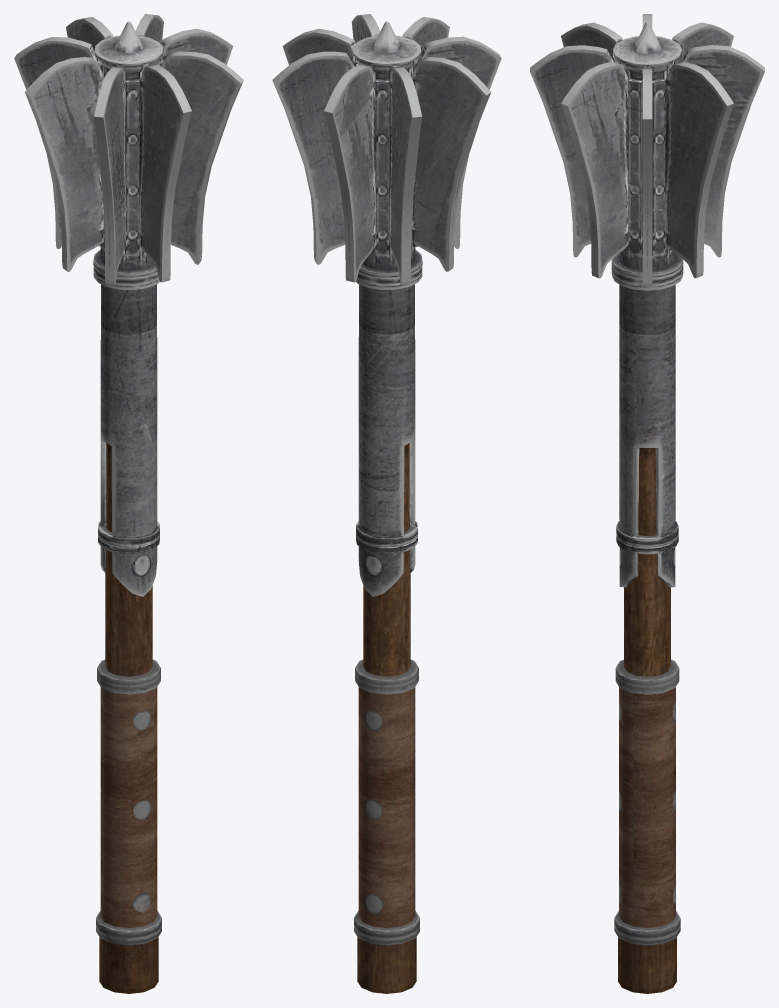
The model's file is Mace_01.fbx.
3 renders of one model, left to right at view 1: azimuth 30°, elevation 25°; view 2: azimuth 150°, elevation 25°; view 3: azimuth 270°, elevation 25°, orthographic.
Visible parts, largest first — view 1: Mace_01_LOD0; view 2: Mace_01_LOD0; view 3: Mace_01_LOD0.
Part boxes in pixels (x1,y1,x2,y2): Mace_01_LOD0: [14, 14, 243, 993]; Mace_01_LOD0: [272, 14, 501, 993]; Mace_01_LOD0: [530, 14, 764, 993].
Size of what is drawn, in the model's own units: 11.95 by 53.83 by 11.95.
